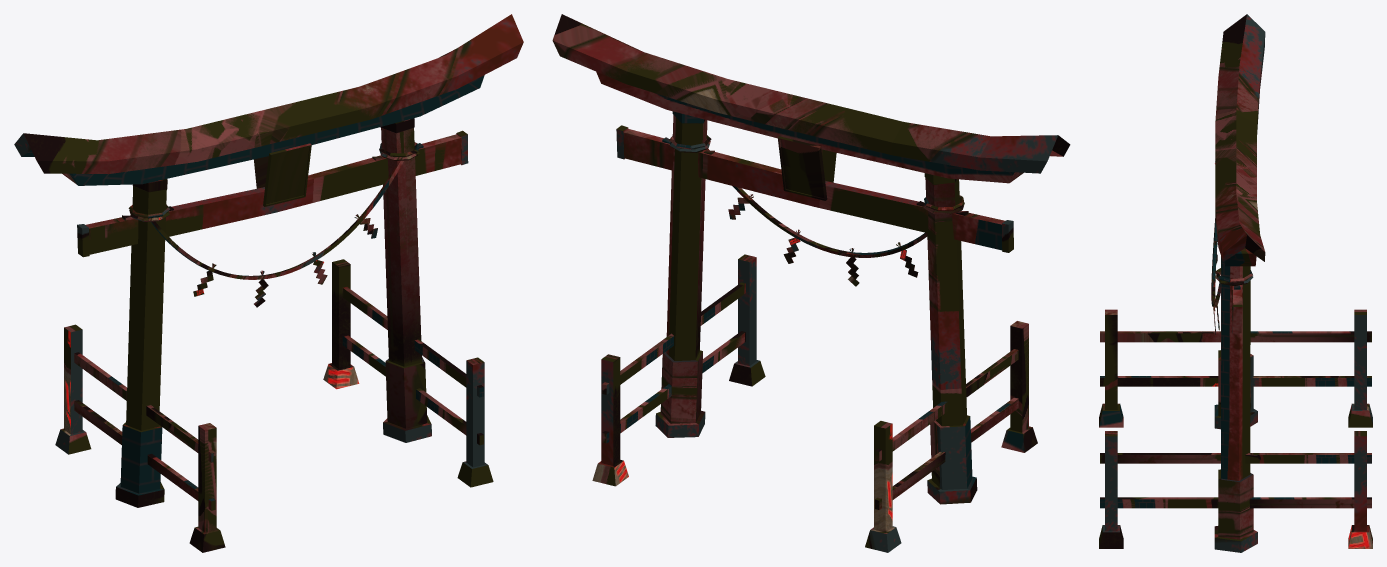
The model's file is ENTRADA DO TEMPLO COM  LOD.fbx.
The picture shows the model from 3 angles, left to right: view 1: azimuth 30°, elevation 25°; view 2: azimuth 150°, elevation 25°; view 3: azimuth 270°, elevation 25°; orthographic projection. The views are drawn at different scales.
Parts seen in each view (by area): view 1: Portal entrada_LOD0; view 2: Portal entrada_LOD0; view 3: Portal entrada_LOD0.
Part boxes in pixels (x1=…): Portal entrada_LOD0: x1=14, y1=14, x2=523, y2=552; Portal entrada_LOD0: x1=552, y1=14, x2=1070, y2=552; Portal entrada_LOD0: x1=1099, y1=14, x2=1372, y2=552.
Size of what is drawn, in the model's own units: 1103 by 834 by 577.
